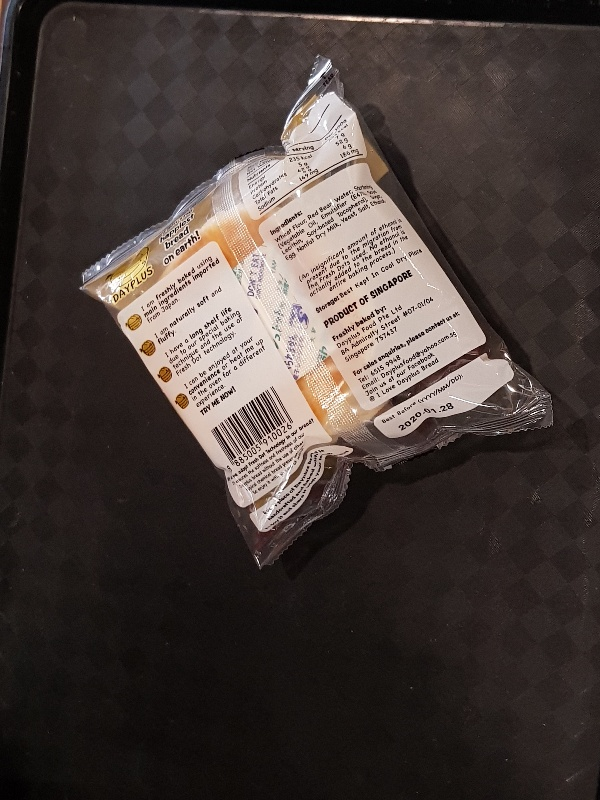Dayplus Red Bean: (80, 51, 555, 571)
